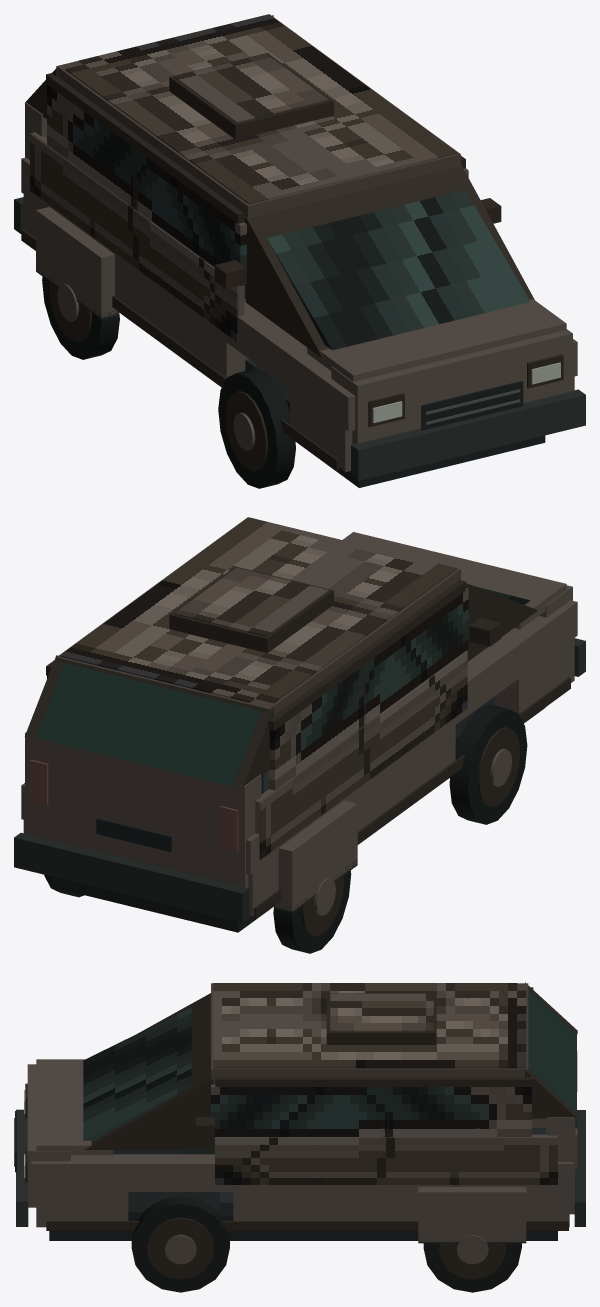
File: CMU3DRMCPropVehicleMonoSupronBrownFlipped.glb
3 renders of one model, top to bottom at view 1: azimuth 30°, elevation 25°; view 2: azimuth 150°, elevation 25°; view 3: azimuth 270°, elevation 25°, orthographic. The views are drawn at different scales.
Visible parts, largest first — view 1: source roof panel, continuous sloped windshield, painted side door -1 0, side glazing -1 0, sloping windshield surround, nose lower panel, front bumper, hood top, upper wheel arch rail -1, roof base, roof pod original top, rear wheel cover (+17 smaller); view 2: source roof panel, rear tailgate, raked rear glazing, painted side door -1 0, side glazing -1 0, rear black bumper, upper wheel arch rail -1, roof pod original top, rear wheel cover, tire 1 -1, lower skirt -1 1, hood top (+18 smaller); view 3: source roof panel, painted side door 1 0, side glazing 1 0, continuous sloped windshield, lower skirt 1 1, sloping windshield surround, upper wheel arch rail 1, rear wheel cover, hood top, chassis dark underside, tire 1 1, roof pod original top (+20 smaller).
Part boxes in pixels (<box>): source roof panel: <box>65,14,457,204</box>; continuous sloped windshield: <box>267,190,530,350</box>; painted side door -1 0: <box>30,133,237,341</box>; side glazing -1 0: <box>47,84,246,285</box>; sloping windshield surround: <box>245,164,534,358</box>; nose lower panel: <box>331,329,572,444</box>; front bumper: <box>351,389,585,480</box>; hood top: <box>307,299,566,381</box>; upper wheel arch rail -1: <box>21,157,355,431</box>; roof base: <box>56,14,460,218</box>; roof pod original top: <box>174,54,328,122</box>; rear wheel cover: <box>36,207,119,317</box>; source roof panel: <box>60,517,457,703</box>; rear tailgate: <box>25,732,261,887</box>; raked rear glazing: <box>35,663,261,785</box>; painted side door -1 0: <box>259,651,467,859</box>; side glazing -1 0: <box>268,588,468,790</box>; rear black bumper: <box>14,832,249,922</box>; upper wheel arch rail -1: <box>246,600,577,874</box>; roof pod original top: <box>174,567,328,636</box>; rear wheel cover: <box>274,800,357,911</box>; tire 1 -1: <box>449,704,527,824</box>; lower skirt -1 1: <box>343,718,455,831</box>; hood top: <box>343,532,566,629</box>; source roof panel: <box>213,983,526,1068</box>; painted side door 1 0: <box>215,1137,557,1184</box>; side glazing 1 0: <box>211,1084,531,1136</box>; continuous sloped windshield: <box>83,1007,191,1140</box>; lower skirt 1 1: <box>233,1185,419,1220</box>; sloping windshield surround: <box>85,993,212,1149</box>; upper wheel arch rail 1: <box>31,1154,573,1191</box>; rear wheel cover: <box>418,1187,526,1241</box>; hood top: <box>36,1059,112,1155</box>; chassis dark underside: <box>49,1150,557,1240</box>; tire 1 1: <box>131,1196,229,1292</box>; roof pod original top: <box>330,993,433,1031</box>.
Size of the model in its own units: 0.9117 by 0.8778 by 1.98.
23 materials, 5 textured.
